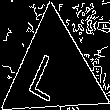L_NE: (31, 41, 76, 101)
